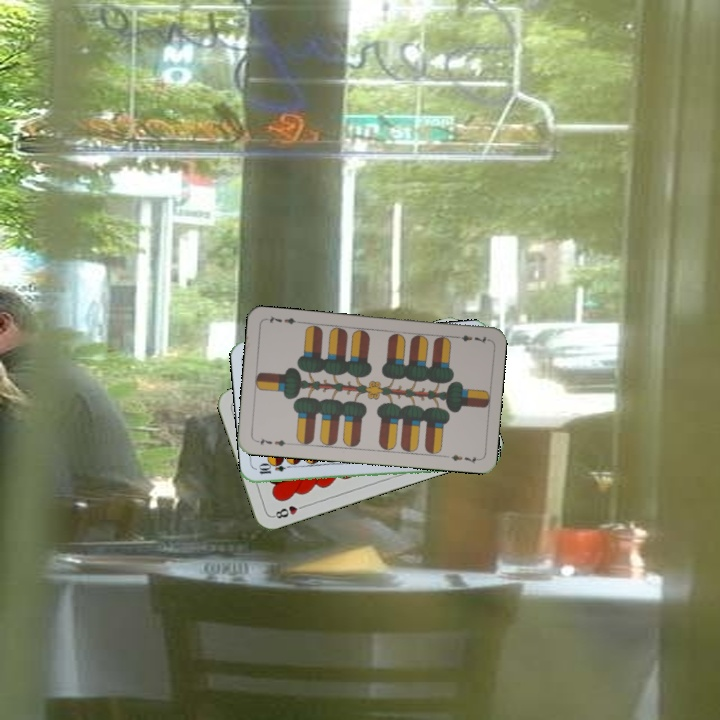E10: (255, 460, 295, 477)
E7: (252, 433, 292, 449), (450, 331, 490, 346)
H8: (269, 501, 308, 521)
